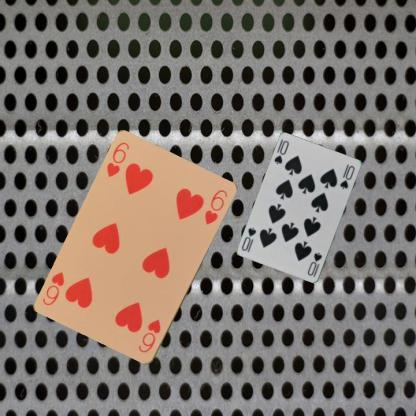10s: (305, 250, 324, 279), (272, 138, 290, 166)
6h: (104, 139, 131, 179), (136, 316, 162, 354)
